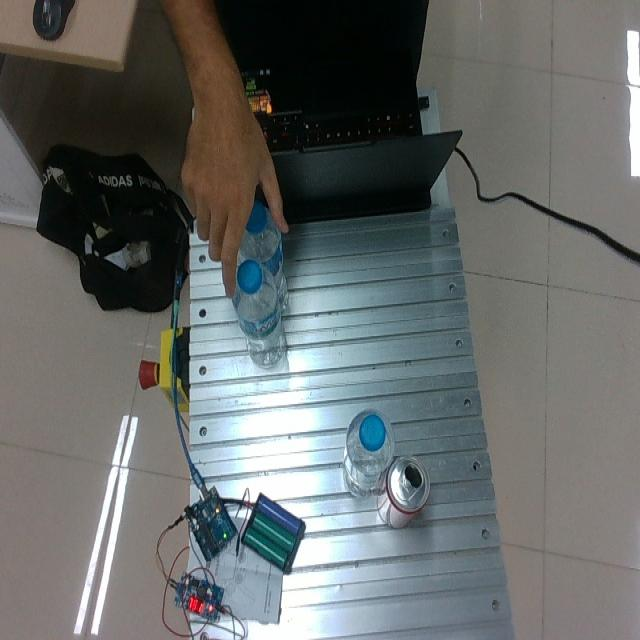coca: (377, 456, 430, 528)
lavie: (238, 199, 287, 316), (235, 265, 287, 368), (341, 409, 395, 499)
